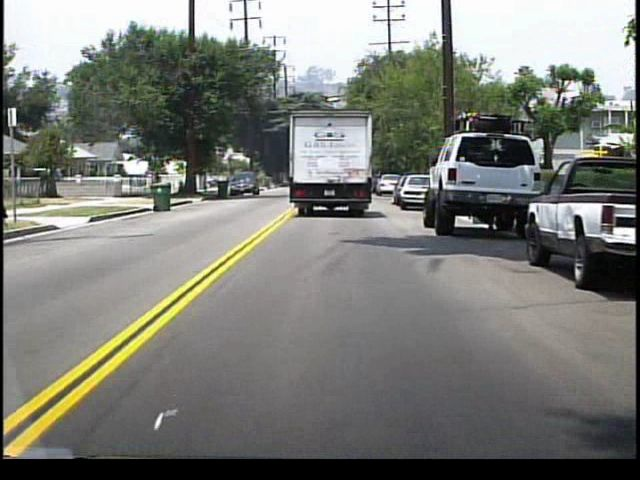person: (153, 168, 164, 196)
